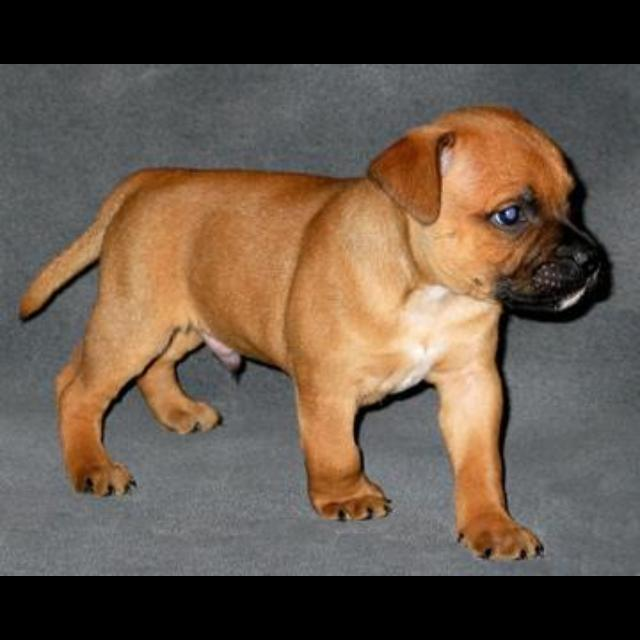staffford: (20, 104, 613, 562)
